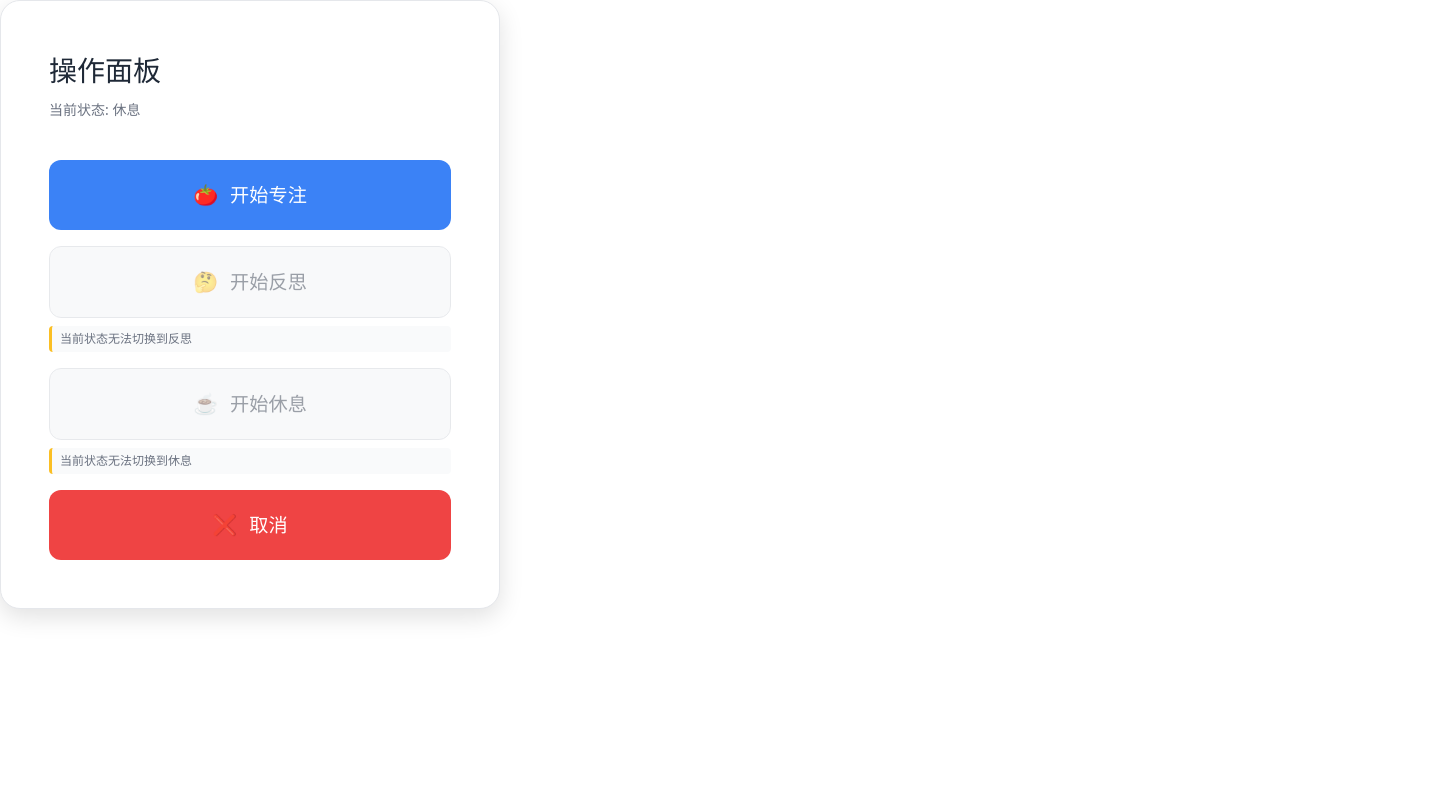
it: ControlPanel › 取消操作 › 应该在其他状态下显示普通确认信息
Click the text "取消" at (268, 525), box x1=249 y1=511 x2=288 y2=539
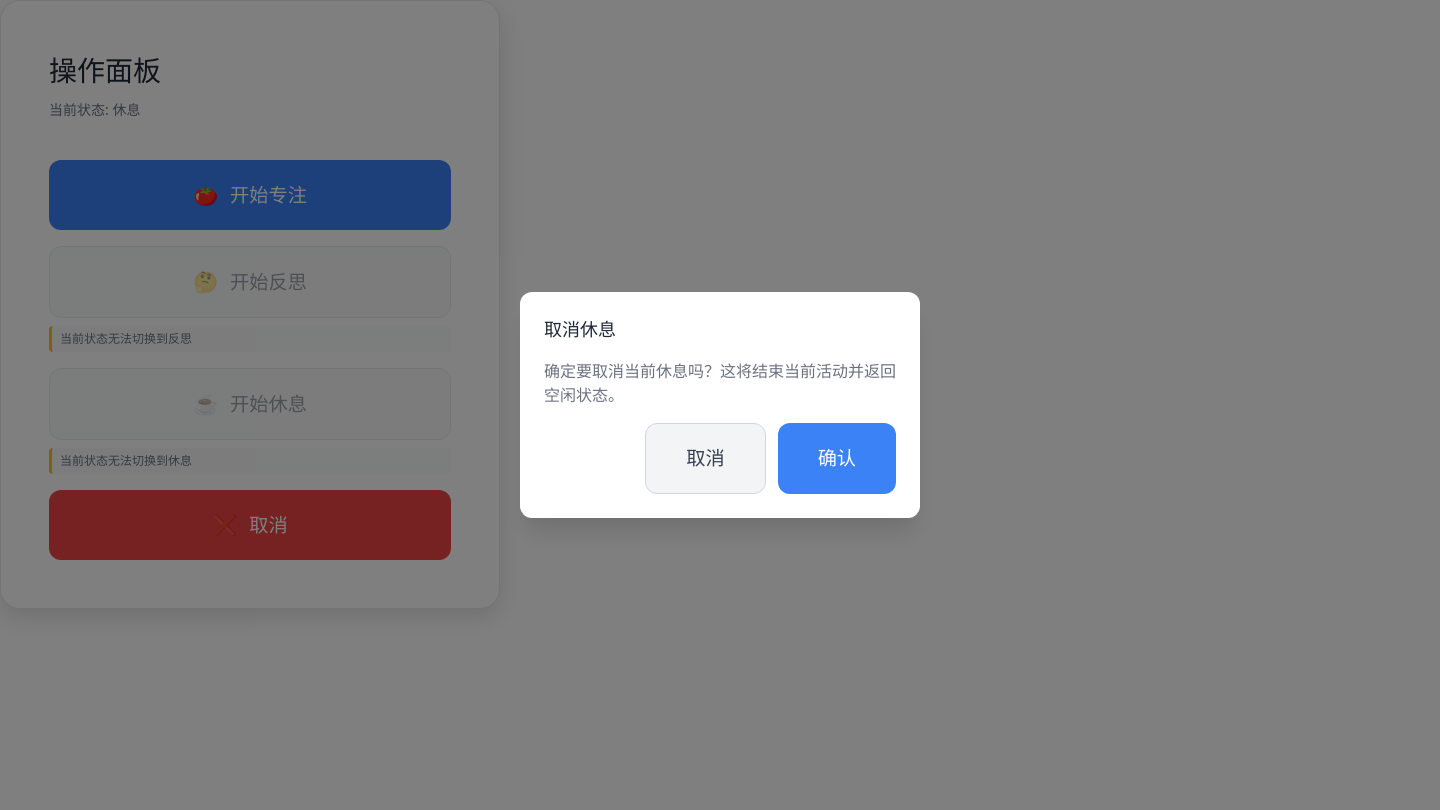
Check: the heading "取消休息" is shown, box x1=544 y1=317 x2=616 y2=341
Check: the text "确定要取消当前休息吗？这将结束当前活动并返回空闲状态。" is shown, box x1=544 y1=359 x2=896 y2=407
